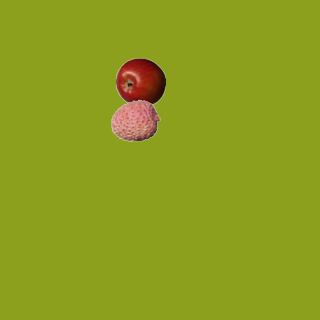Apple Braeburn: (115, 57, 165, 107)
Lychee: (110, 95, 160, 145)
